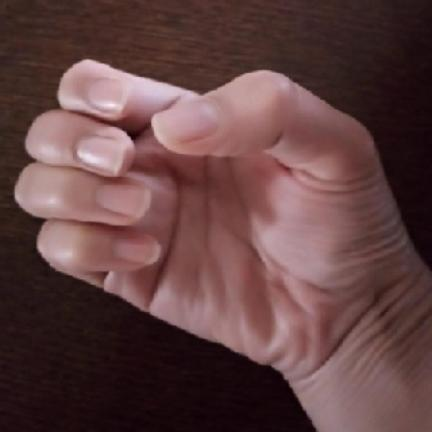Nail: (152, 97, 219, 144), (76, 136, 126, 176), (96, 184, 152, 219), (87, 78, 125, 112), (115, 238, 160, 264)
